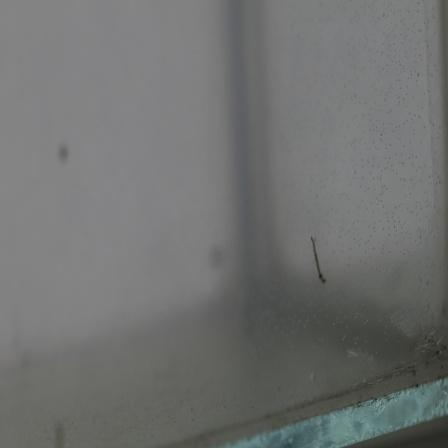Jentik-Nyamuk: (308, 229, 329, 291)
